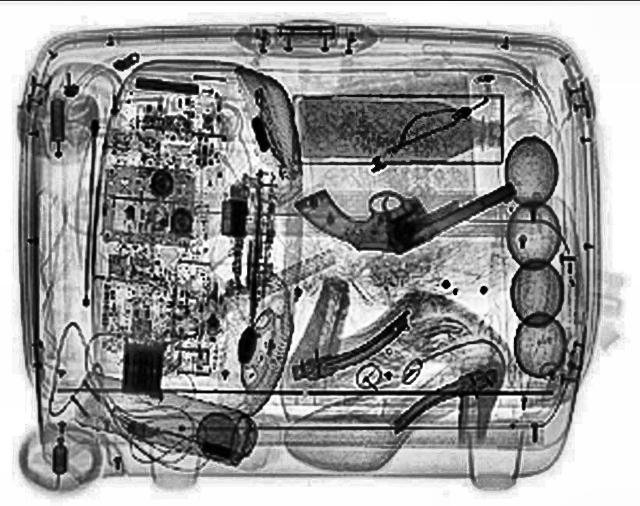Gun: (290, 181, 520, 255)
